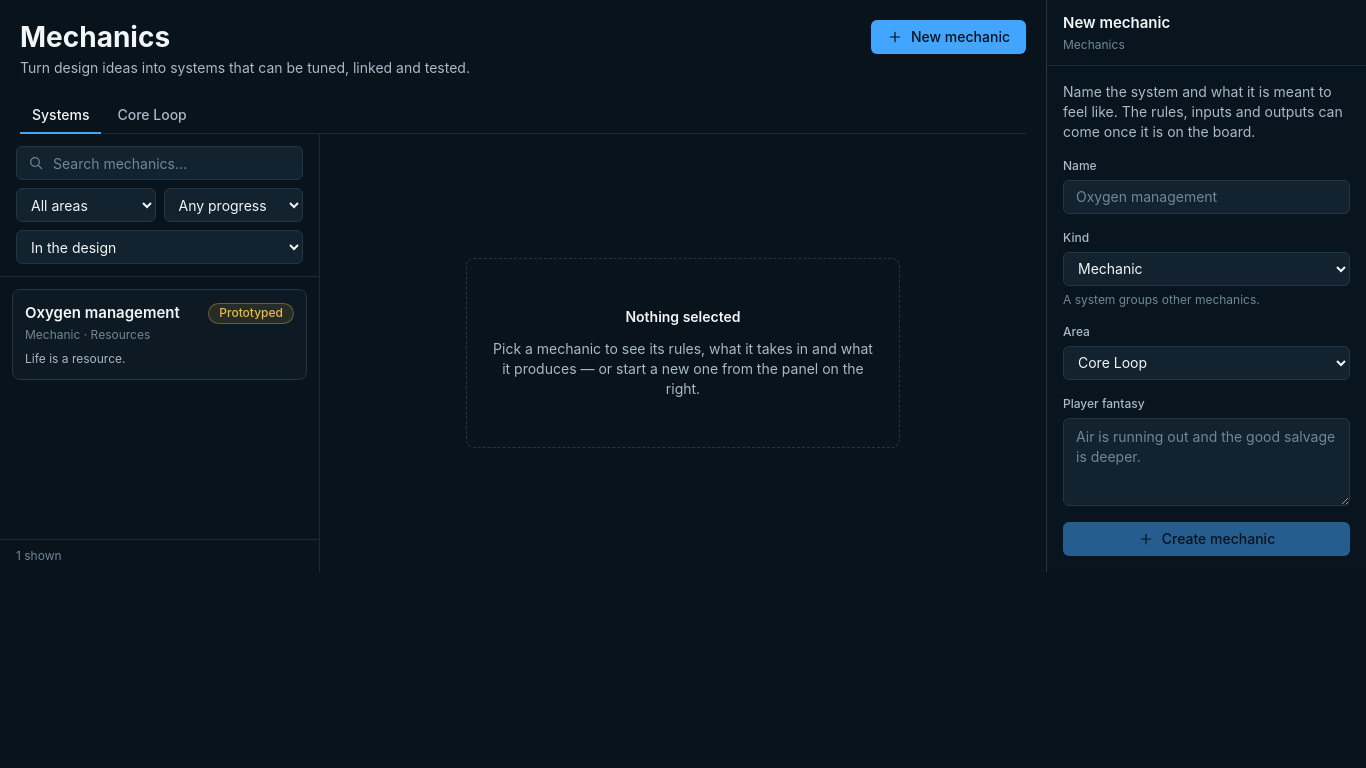
Mechanics workspace › opens the detail surface on the mechanic that was picked
The width and height of the screenshot is (1366, 768).
Step 1. Click the heading "Oxygen management" → (102, 313), box 25,302 -> 180,324
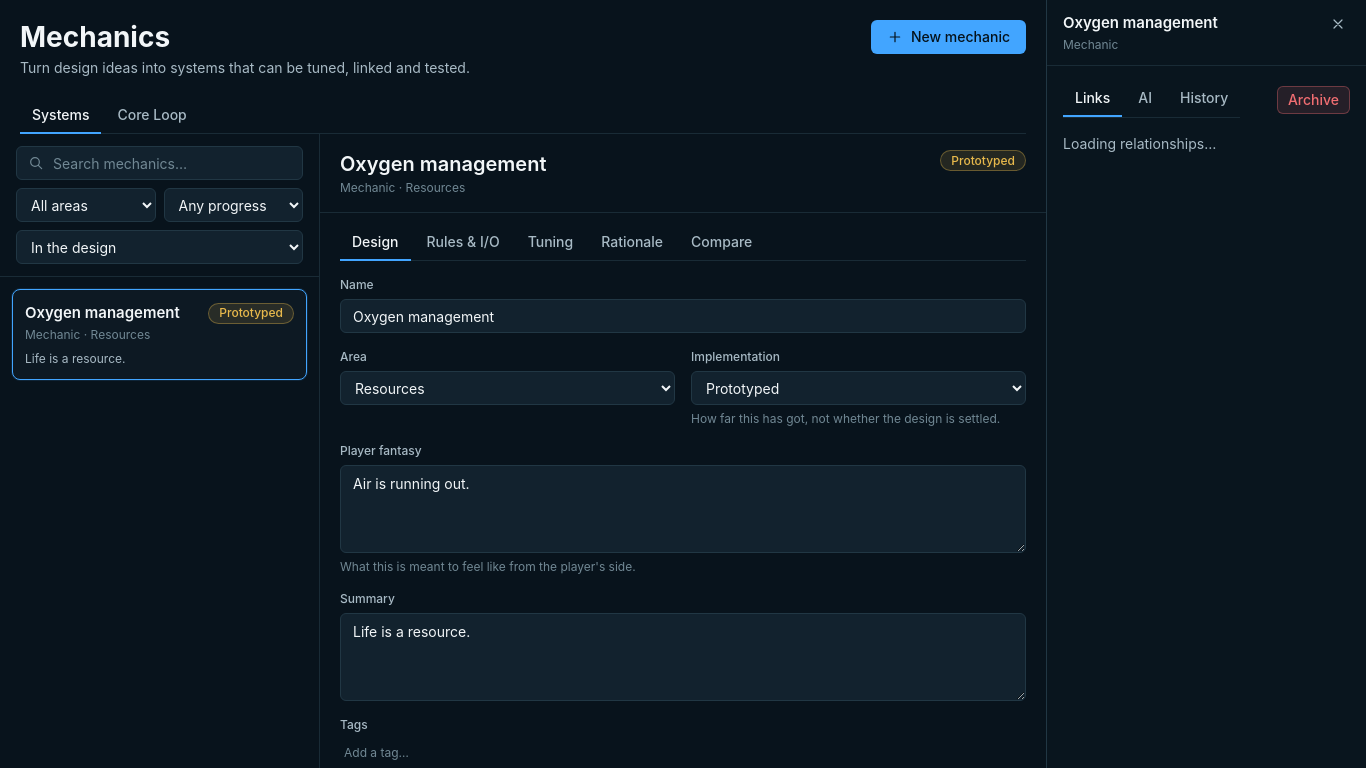
Expected: the field labelled "Name" holds "Oxygen management", 340,299 -> 1026,333
Step 2. Click the tab "Rules & I/O" → (463, 242), box 414,224 -> 512,260
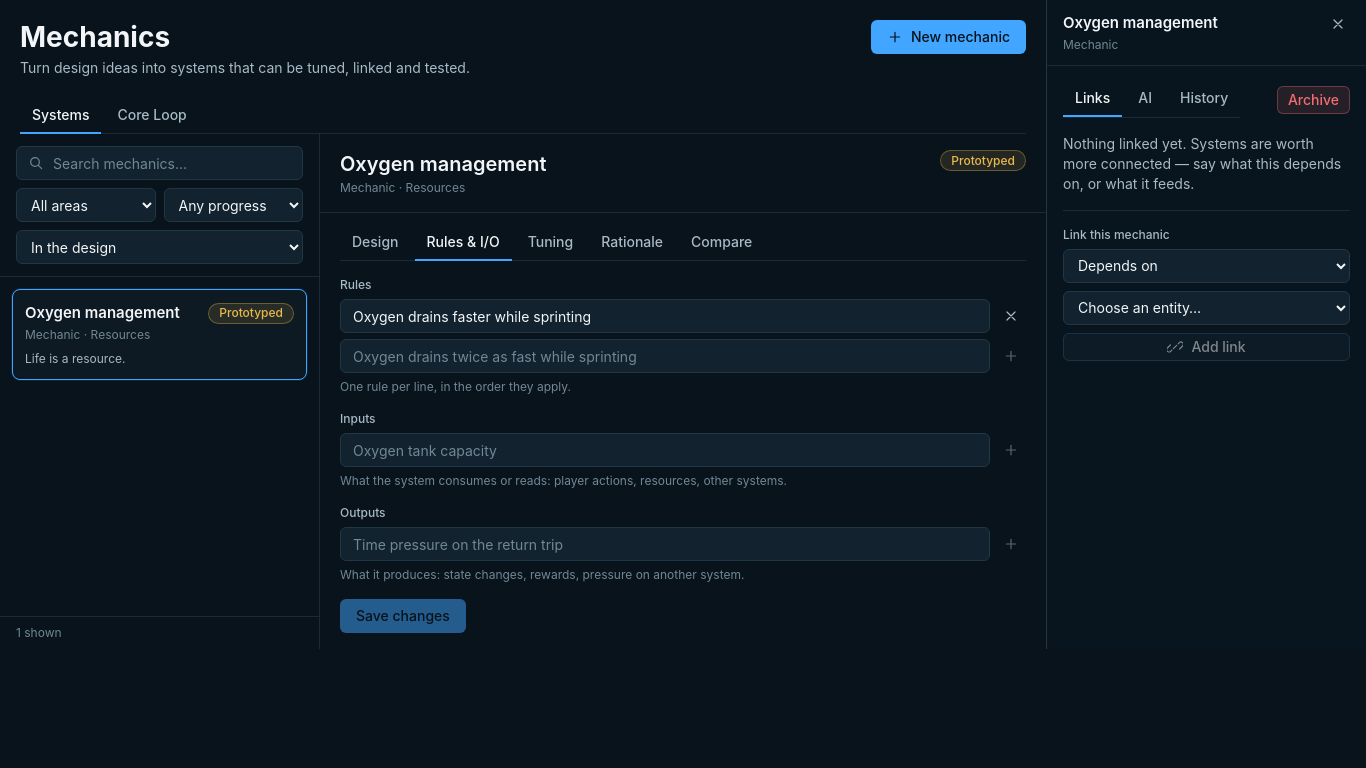
Expected: the field named "Rules 1" holds "Oxygen drains faster while sprinting", 340,299 -> 990,333
